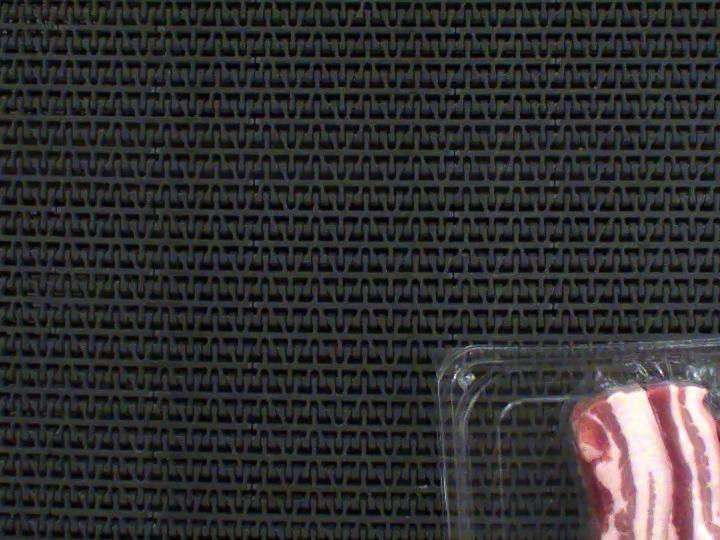unsealed: (542, 316, 720, 461)
